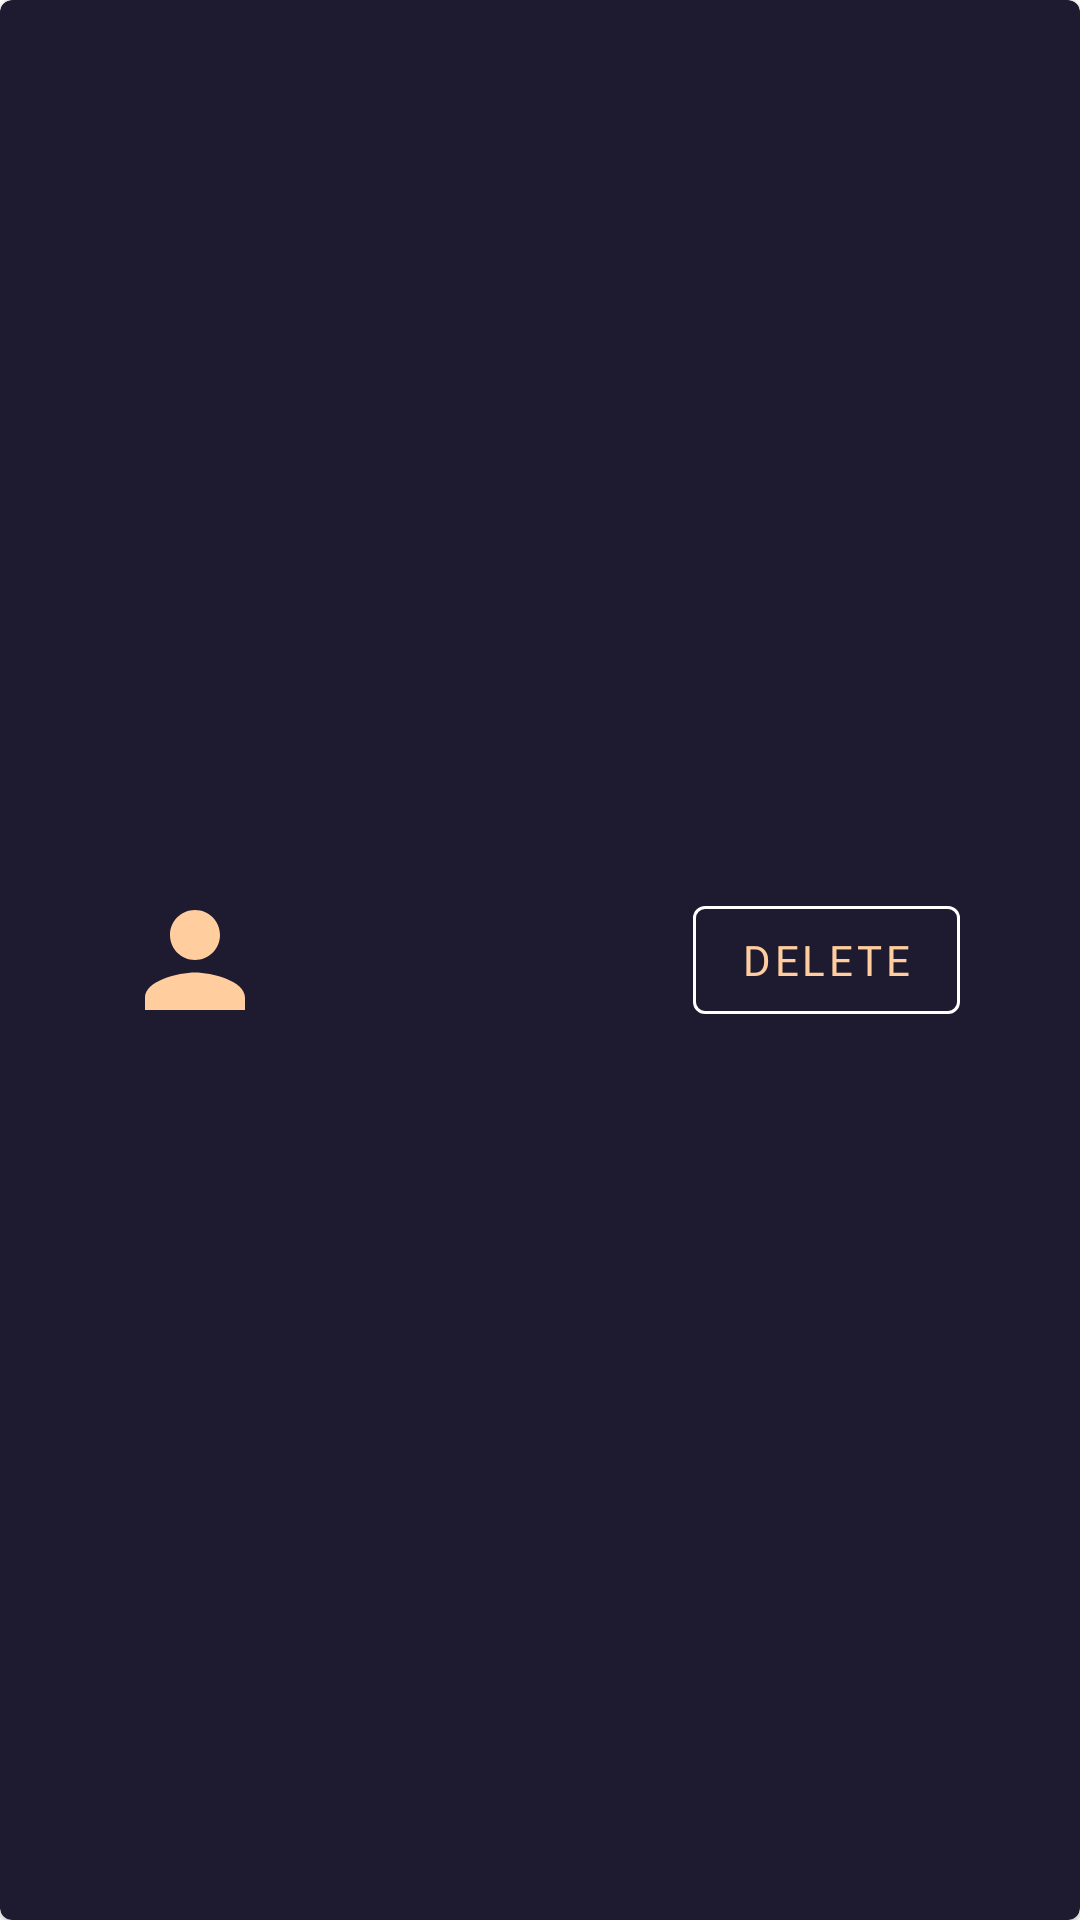

Locate icon controls on the screen. Image size 1080×1920, boxes as bbox(x1, y1, x2, y2).
profile photo: bbox(145, 910, 245, 1010)
